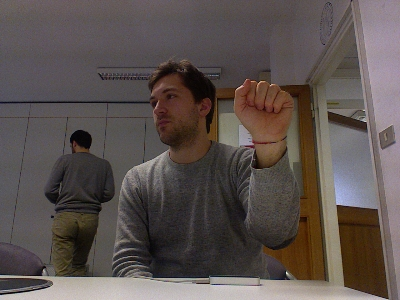石头: (231, 77, 294, 140)
